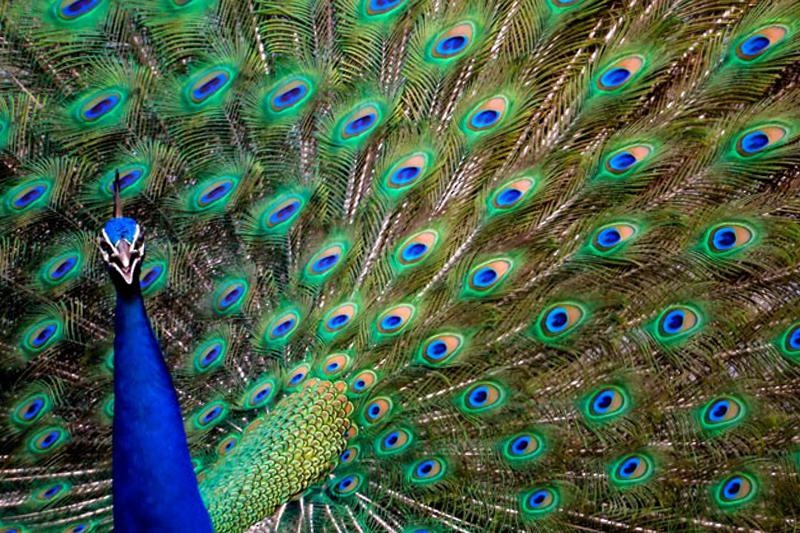peacock: (9, 23, 746, 533)
